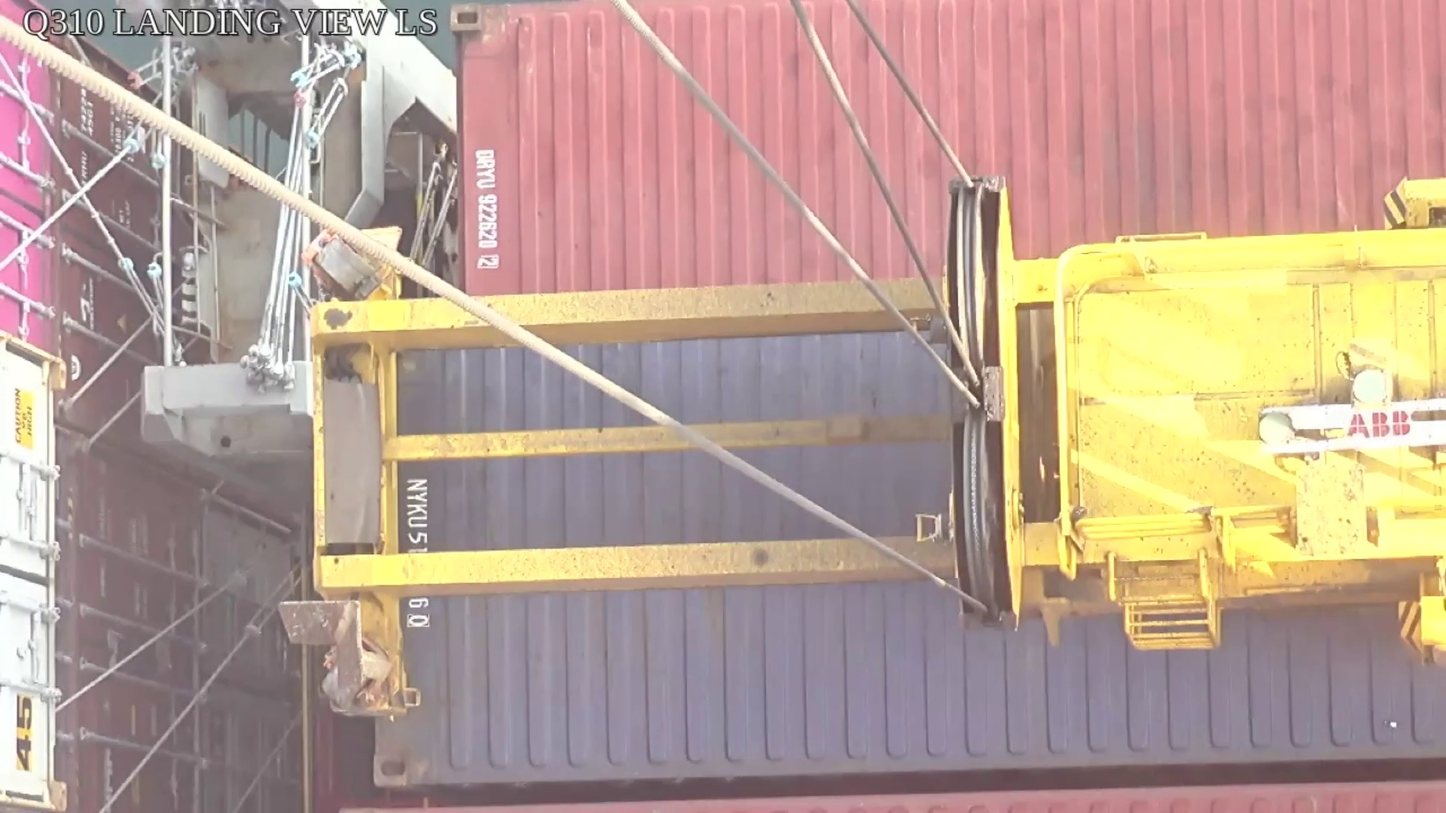aa: (945, 176, 1023, 634)
